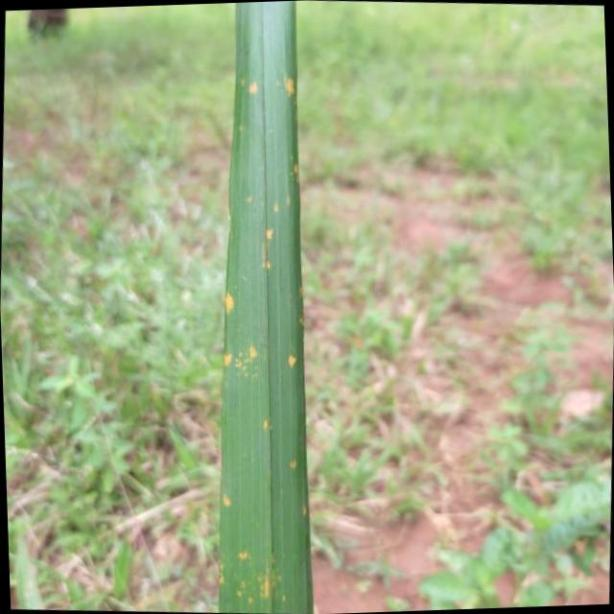Kalium: (215, 0, 314, 614)
